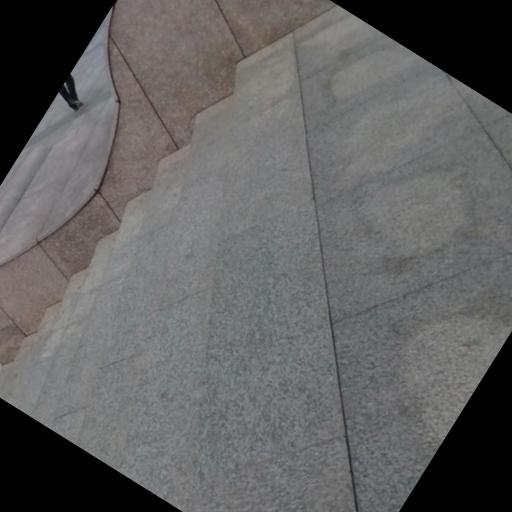stairs: (0, 22, 474, 511)
